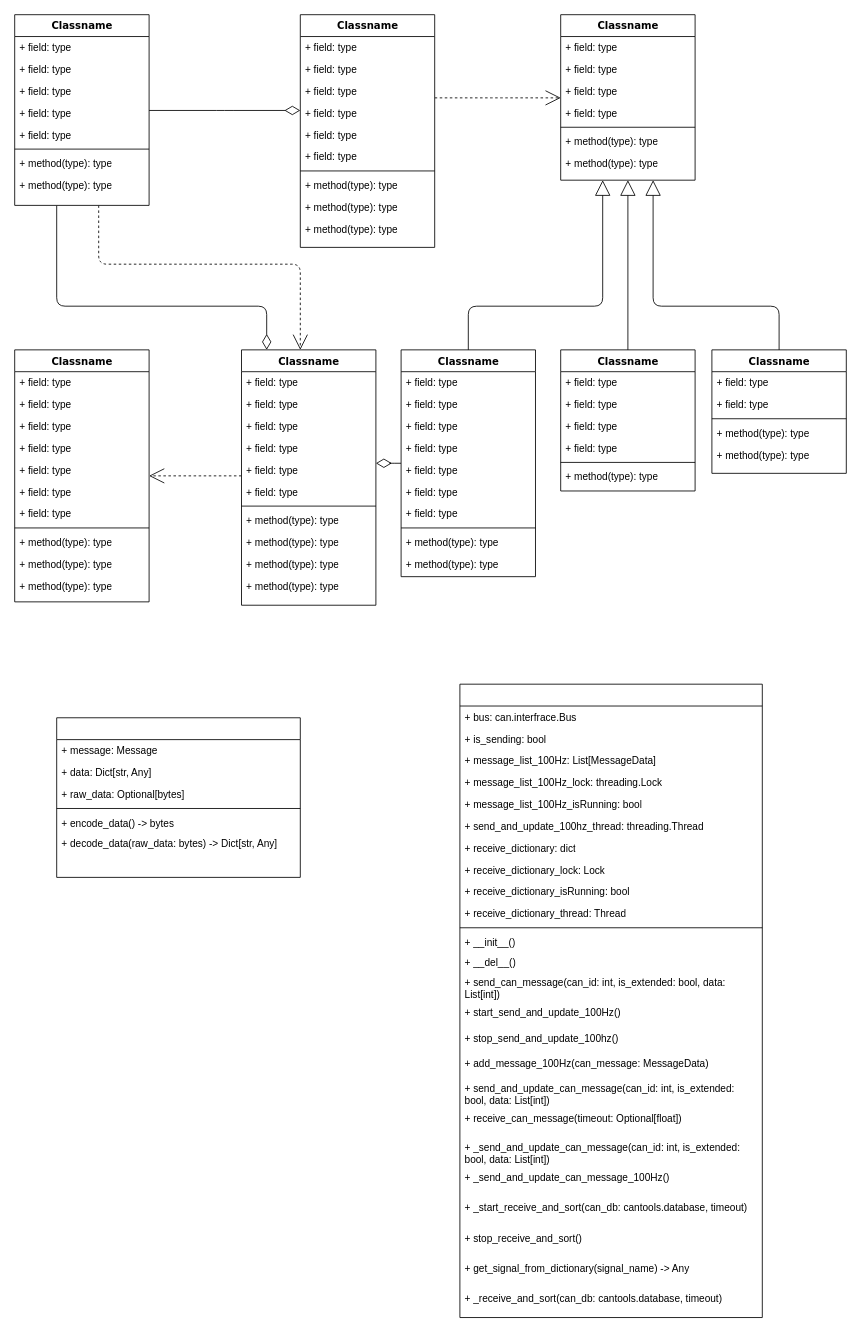
This 861x1335 diagram has some shape labels left out. The shapes that lost their labels are listed below. From the top down, each one's box as (x1, y1, x2, y2) in pixels, then its label:
(56, 717, 300, 877): MessageData
(459, 683, 762, 1318): CANInterface
